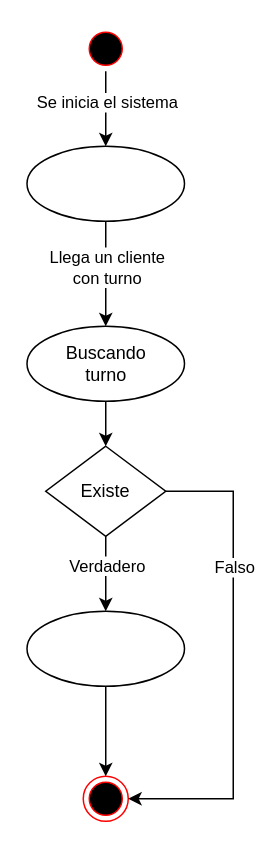
The diagram is 279 pixels wide and 848 high, and some of its shapes have lost their labels. Here are the shapes that lost their labels. From the top down, the centre of each, then its label:
At point 105,183: "En espera".
At point 105,648: "Generando ficha".
